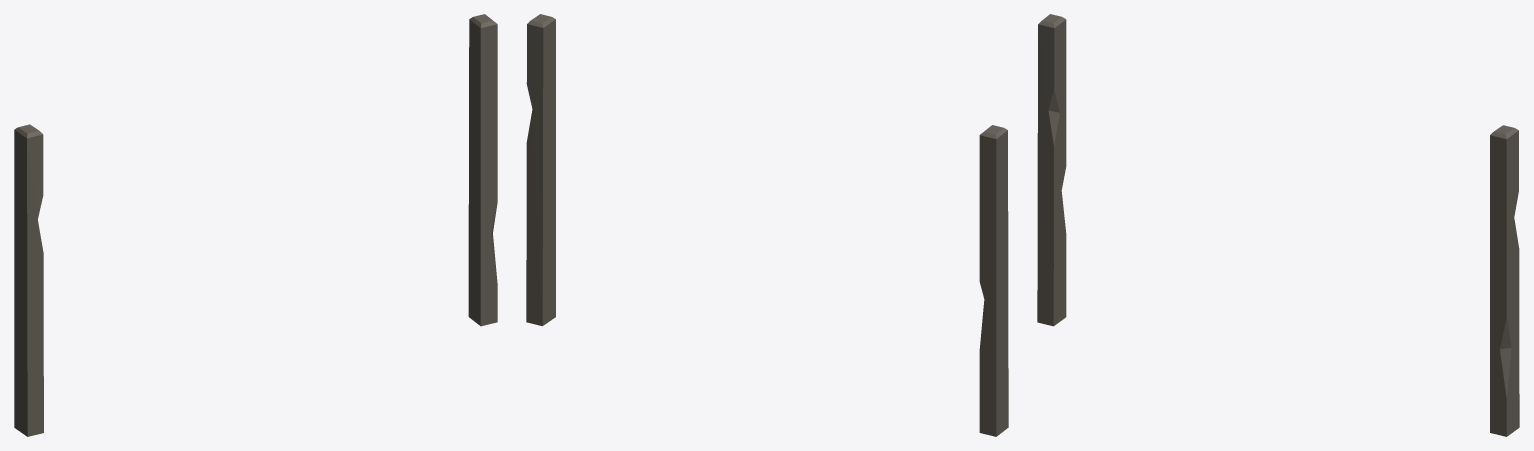
The model's file is SM_Prop_Washingline_Small_Poles_03.glb.
3 views of the same model, side by side, from view 1: azimuth 30°, elevation 25°; view 2: azimuth 150°, elevation 25°; view 3: azimuth 330°, elevation 25° (orthographic).
Parts seen in each view (by area): view 1: SM_Prop_Washingline_Small_Poles_03; view 2: SM_Prop_Washingline_Small_Poles_03; view 3: SM_Prop_Washingline_Small_Poles_03.
Part boxes in pixels (<box>): SM_Prop_Washingline_Small_Poles_03: <box>14,14,497,436</box>; SM_Prop_Washingline_Small_Poles_03: <box>526,14,1008,436</box>; SM_Prop_Washingline_Small_Poles_03: <box>1037,14,1519,436</box>.
Bounding box in the file's own units: 4.18 × 2.55 × 0.1964.
1 material, 1 textured.
